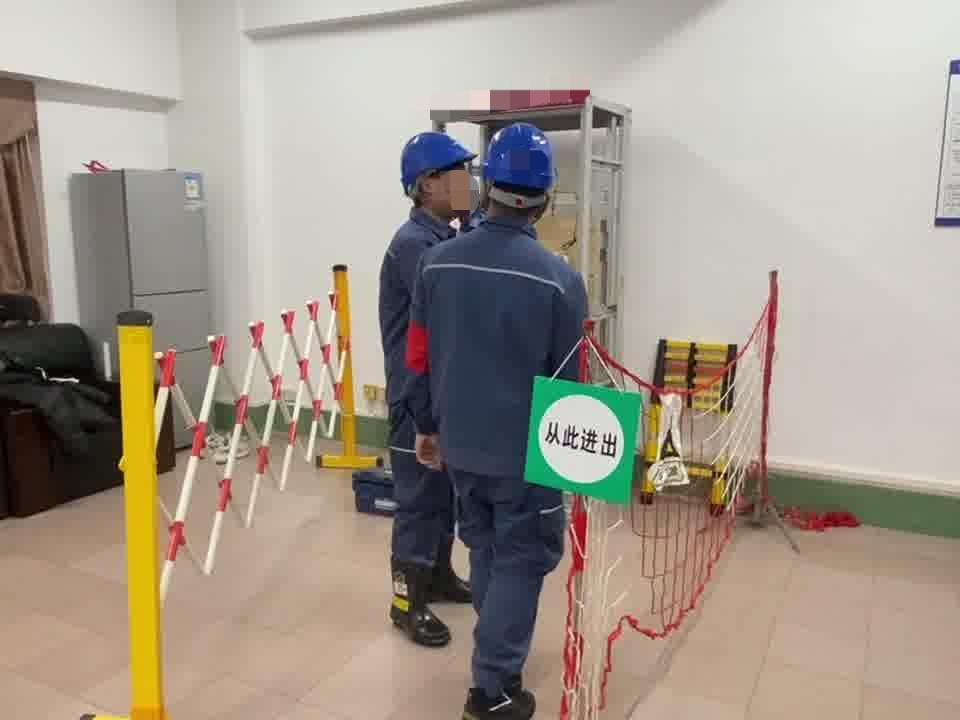halt: (482, 125, 561, 222), (400, 132, 479, 222)
outear: (403, 176, 461, 214)
